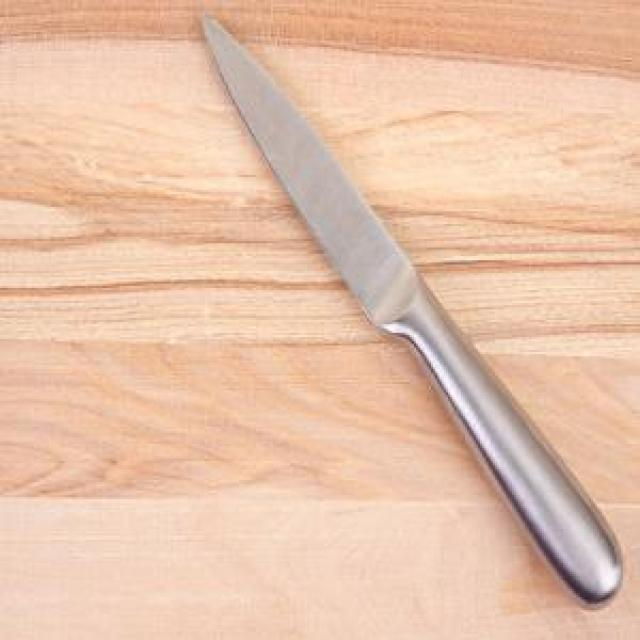knife: (198, 10, 624, 618)
